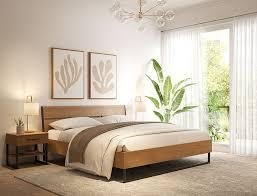Indoor Plant: (147, 58, 196, 122), (15, 118, 25, 134)
bed: (42, 105, 212, 183)
blanket: (66, 119, 178, 179)
curtain: (160, 28, 204, 130), (230, 19, 257, 156)
lamp: (25, 102, 40, 131)
light: (109, 0, 174, 34)
painting: (52, 48, 85, 99), (90, 52, 118, 97)
pillow: (49, 116, 100, 131)
table: (6, 133, 48, 167)
window: (205, 29, 231, 144)
